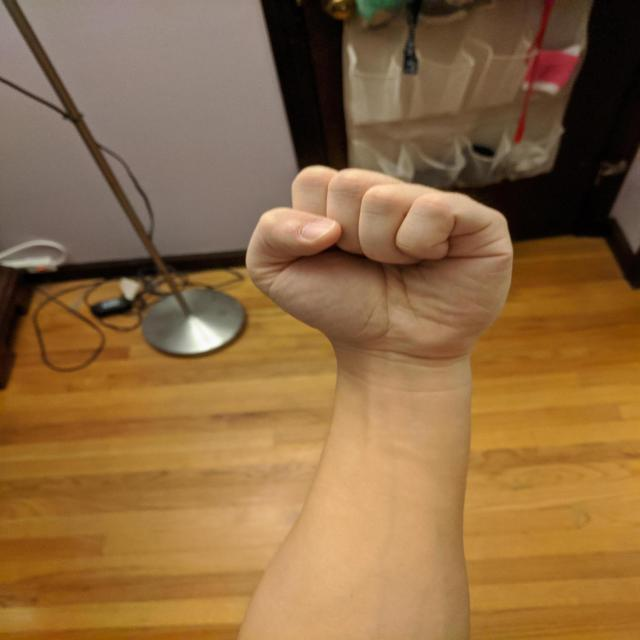S: (239, 158, 523, 362)
